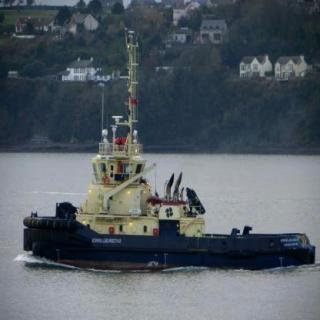Tug Boat: (24, 98, 308, 270)
